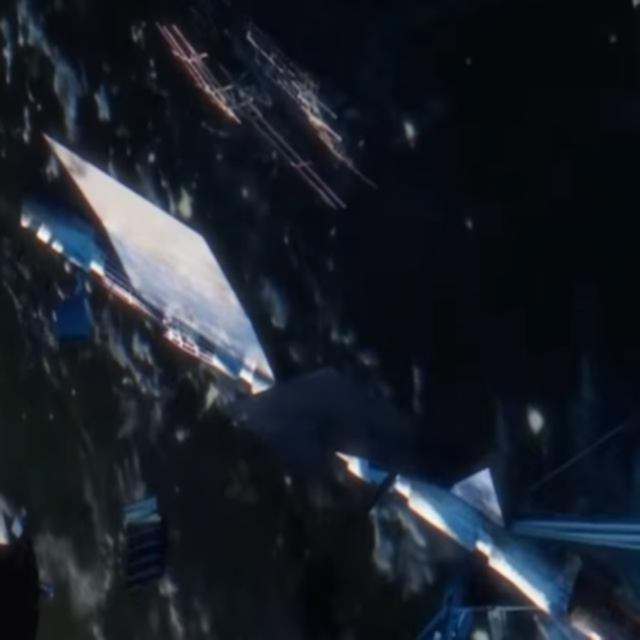large_debris: (14, 126, 640, 640), (160, 1, 384, 219), (98, 465, 182, 619)
